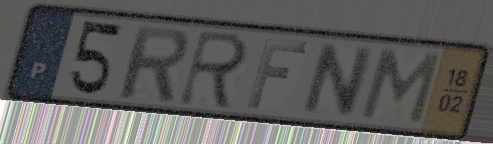5: (67, 18, 124, 97)
F: (243, 37, 312, 111)
M: (356, 46, 445, 127)
N: (297, 41, 379, 119)
R: (175, 27, 253, 112), (116, 23, 191, 104)
